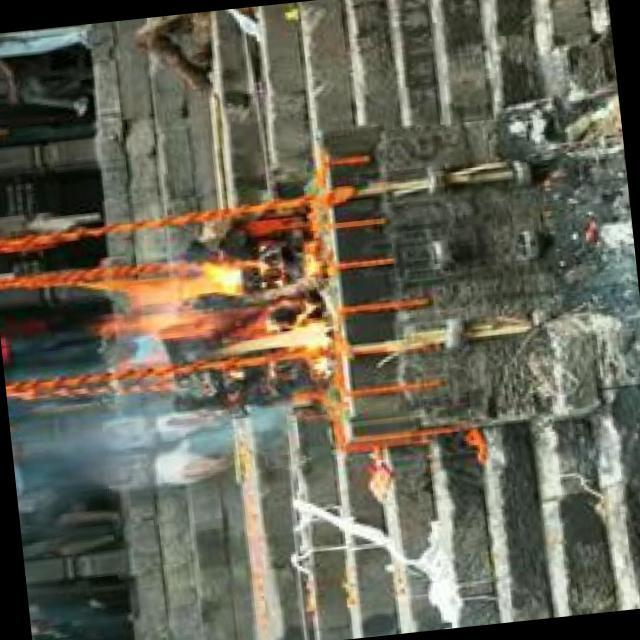Fire: (93, 250, 339, 400)
